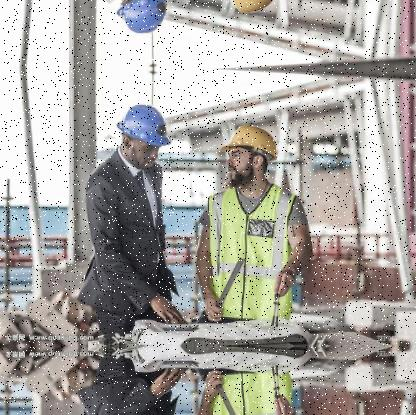helmet: (215, 118, 279, 187), (112, 97, 171, 168), (111, 0, 171, 40), (215, 0, 280, 19)
